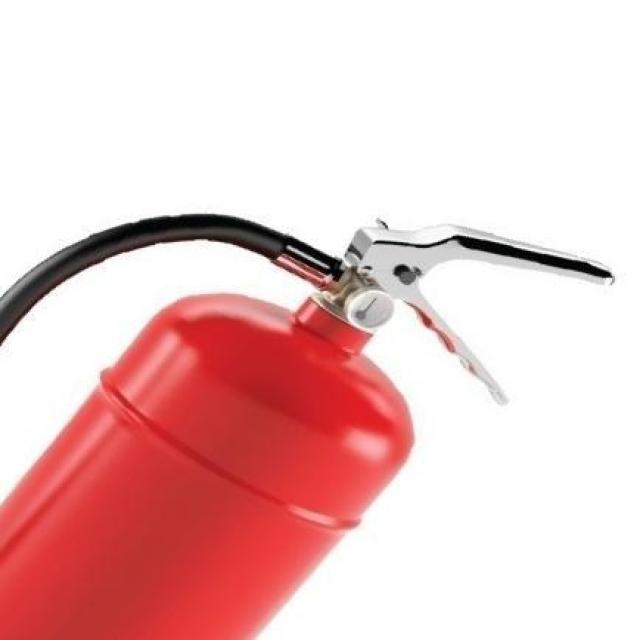fire_extinguisher: (0, 206, 618, 638)
